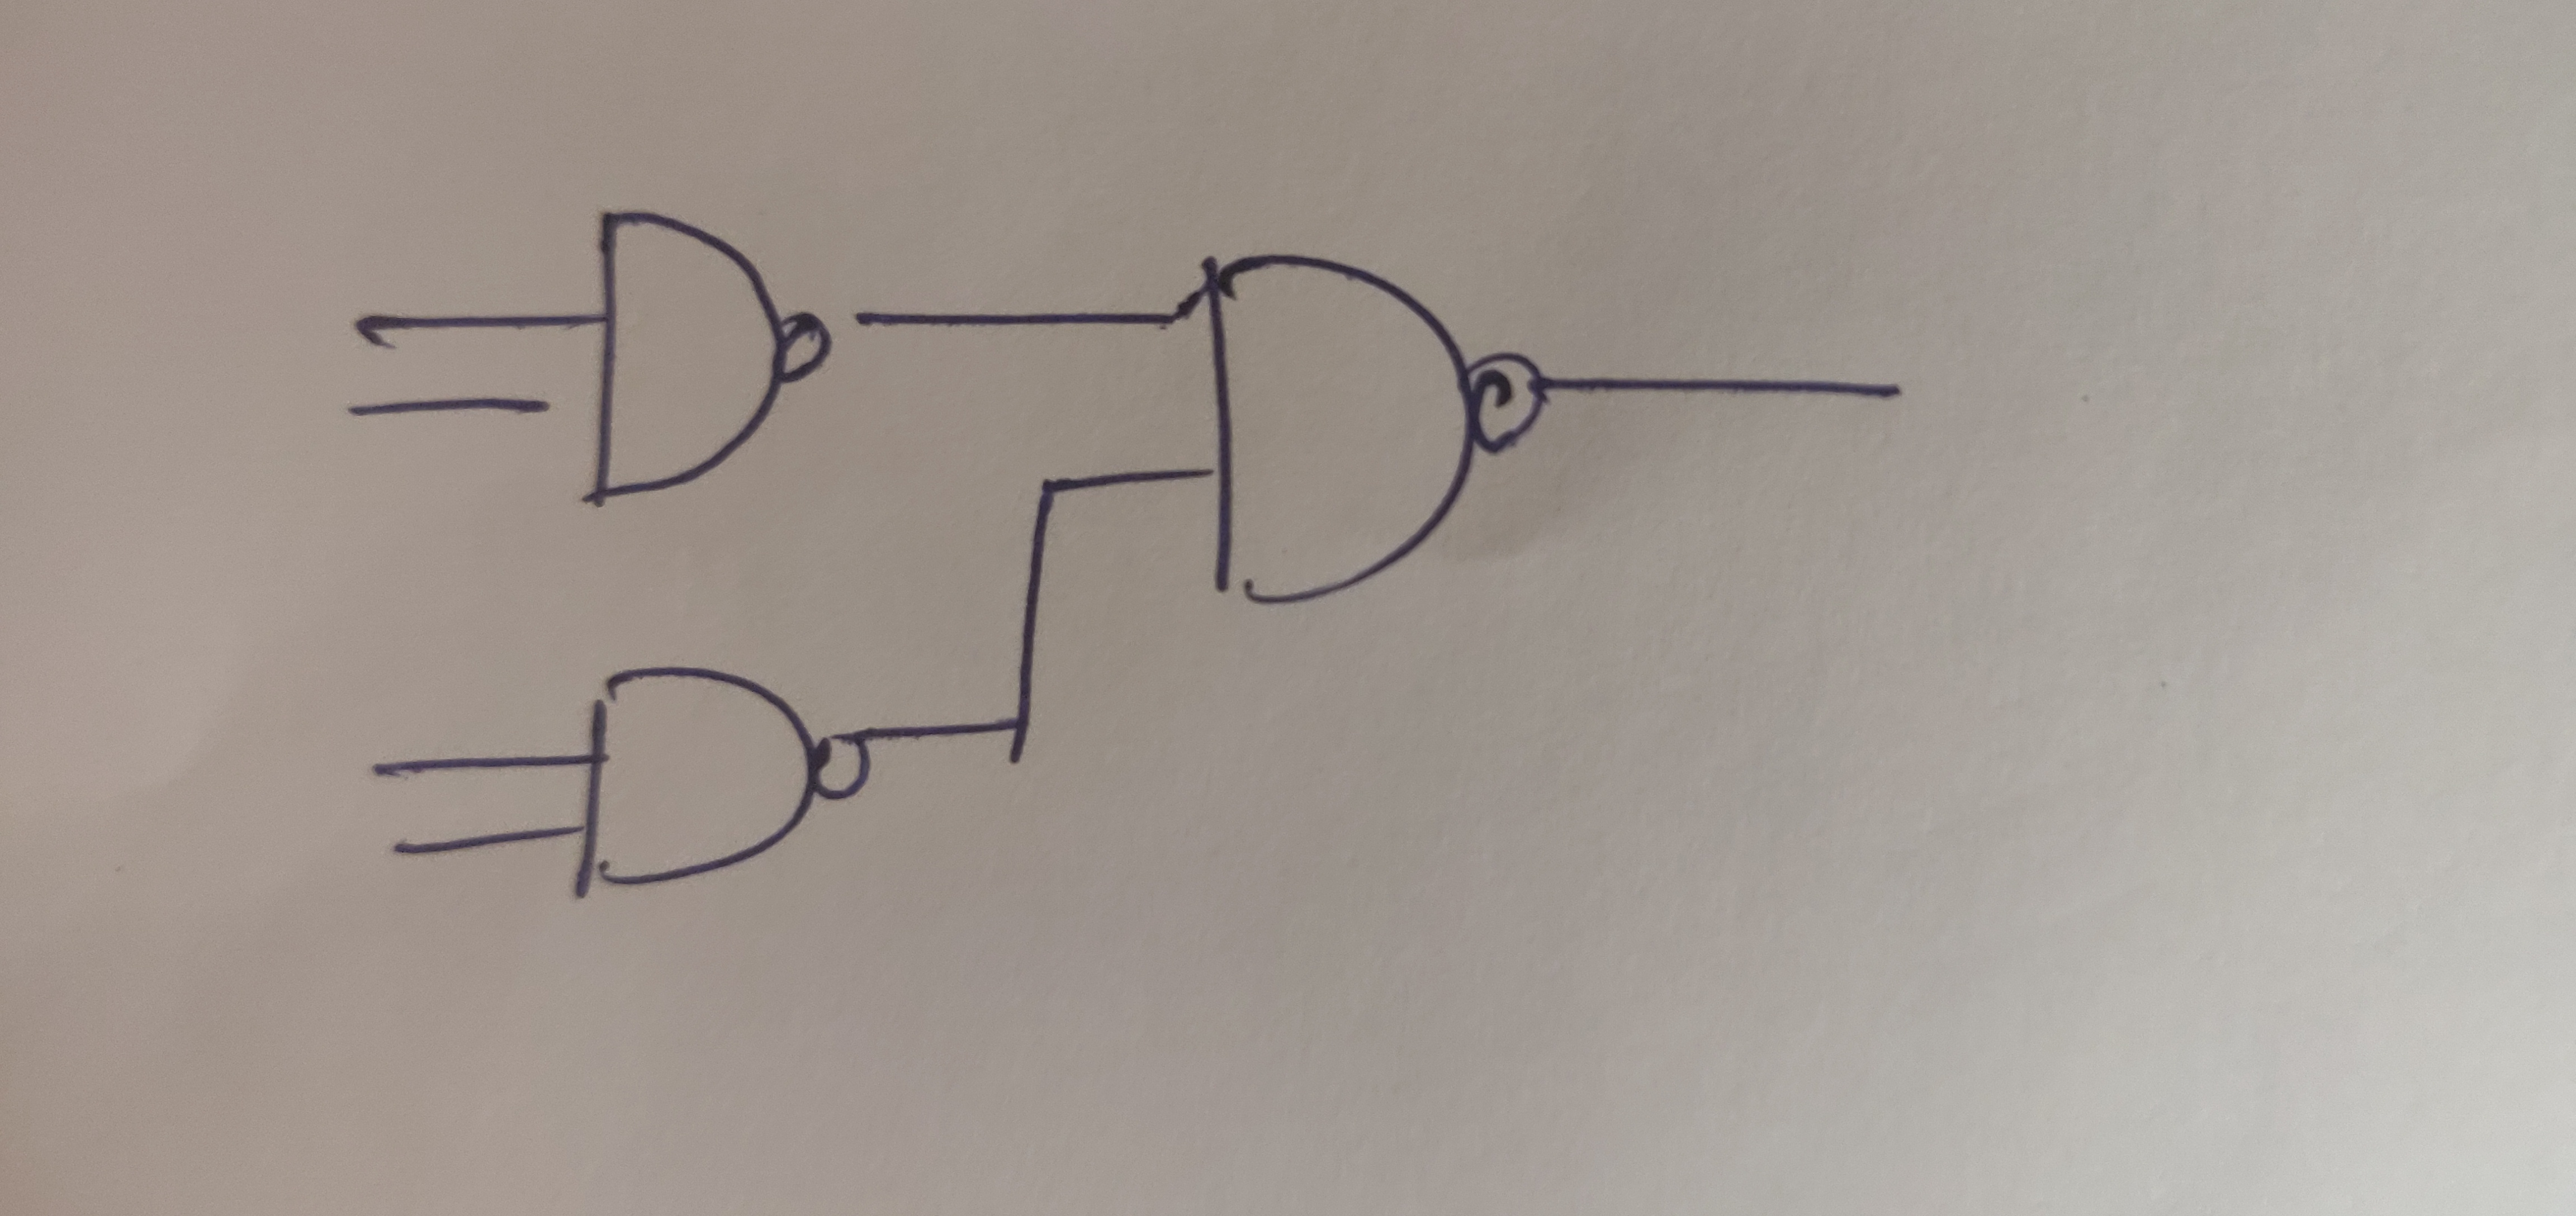nand: (1117, 200, 1653, 677), (511, 181, 907, 546), (517, 634, 978, 937)
